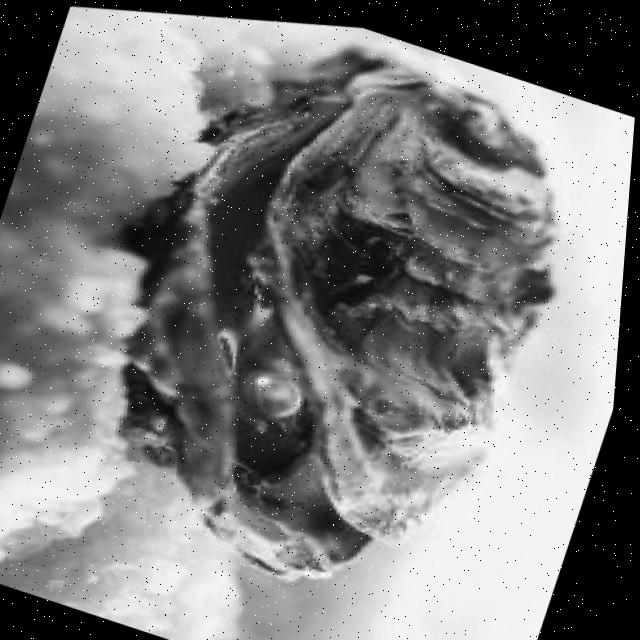Oyster-Open: (23, 5, 616, 640)
